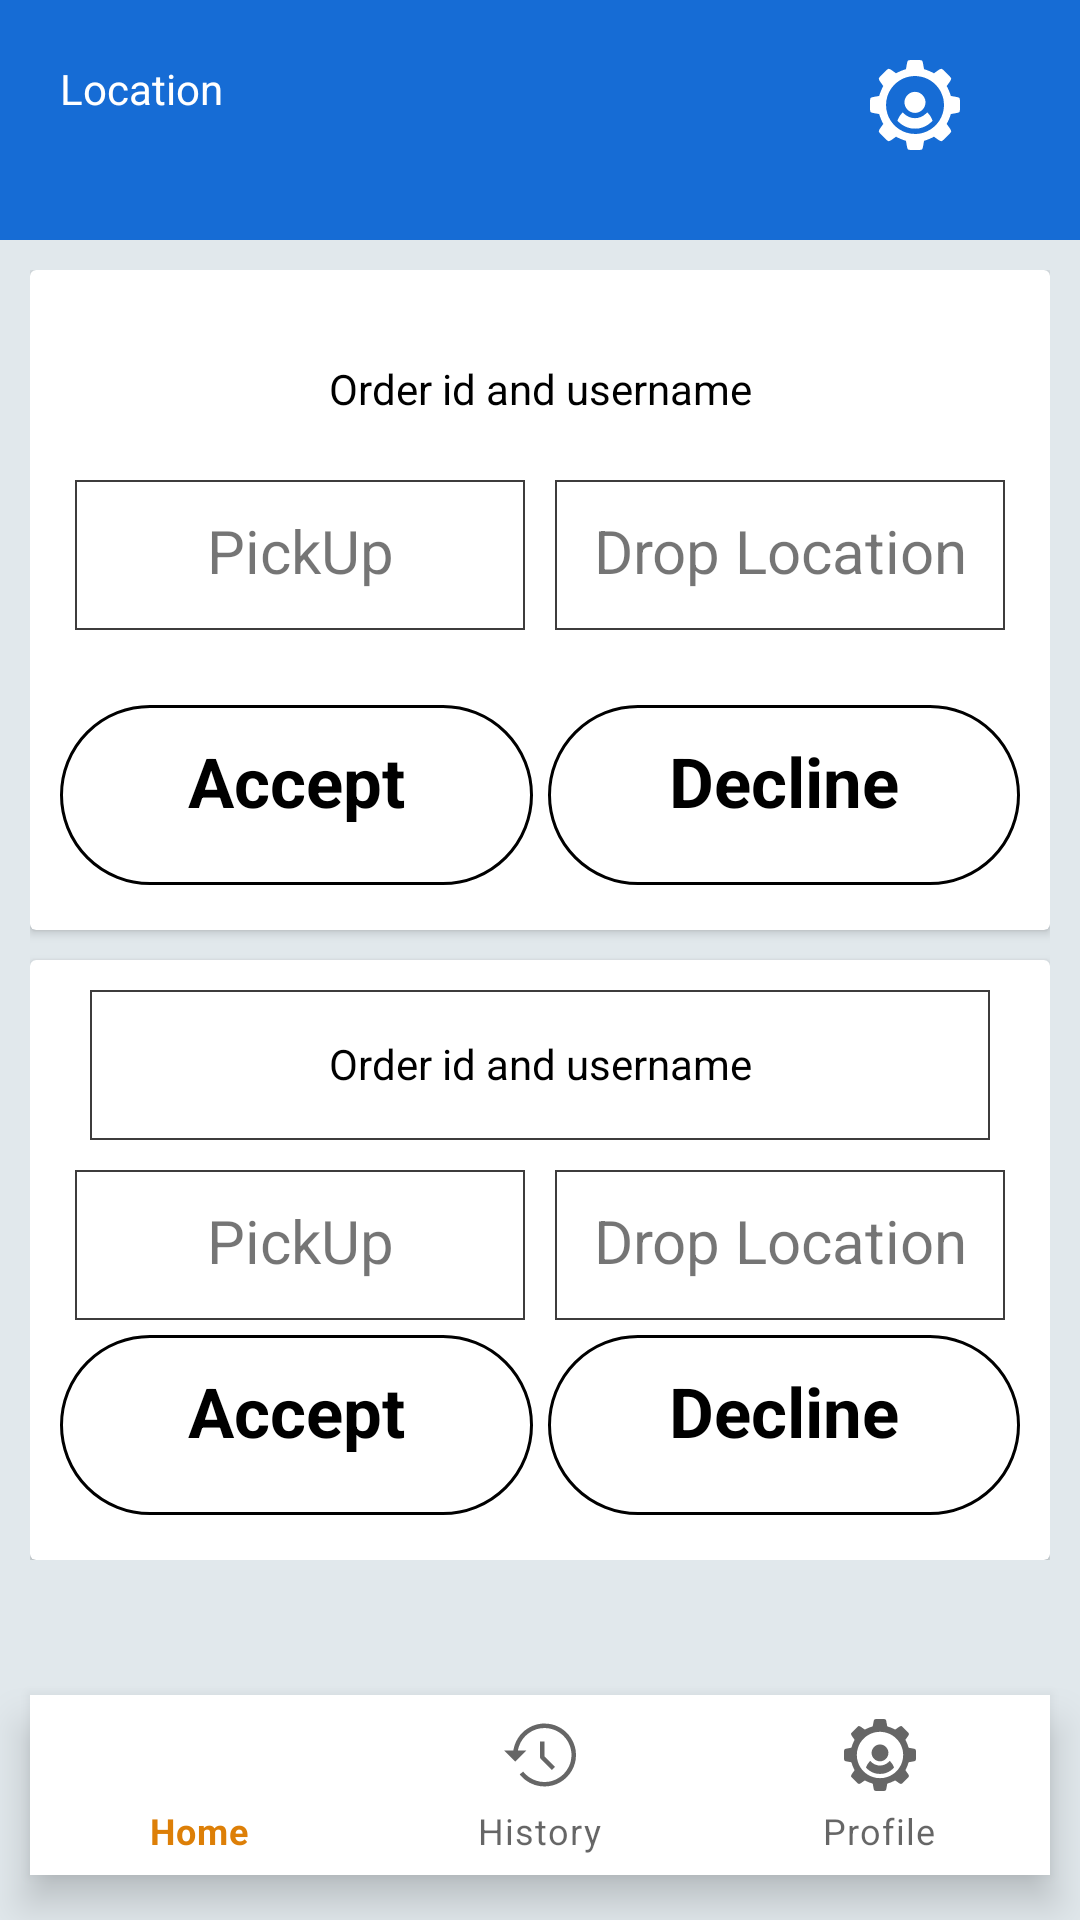

Where to tap for icons on this 1080×1920 app screen, as (x=x, y=y):
settings: (x=915, y=105)
